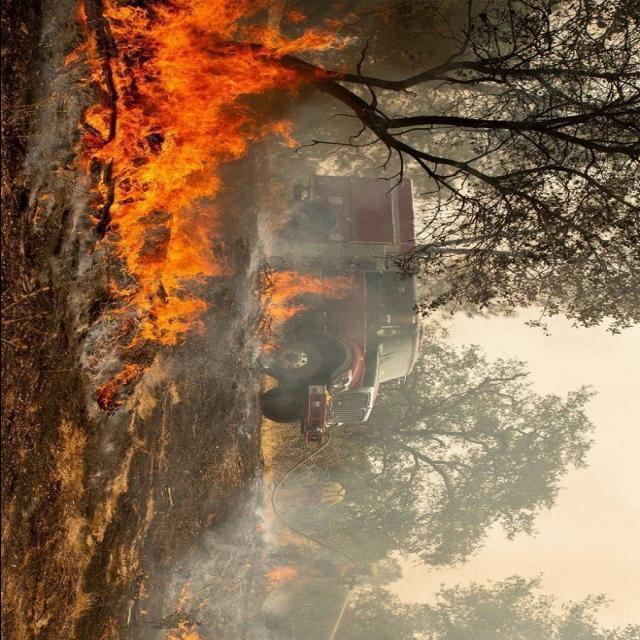Fire: (78, 3, 346, 357), (256, 270, 356, 354)
